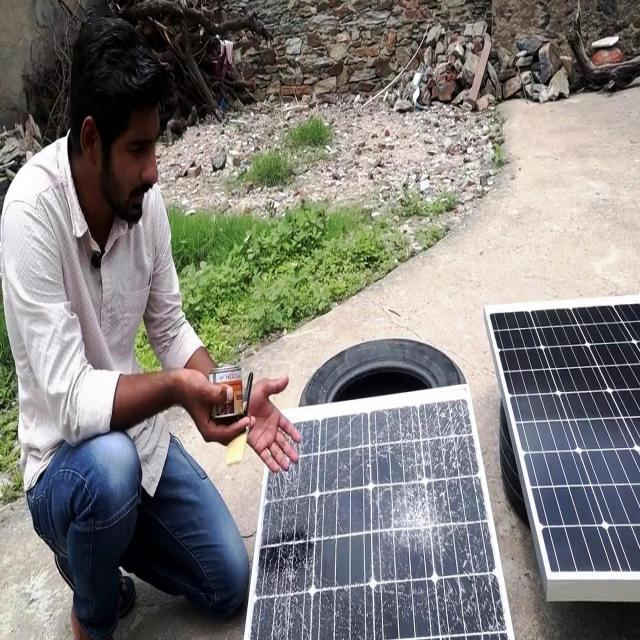faulty: (250, 396, 506, 634)
no faulty: (488, 302, 640, 580)
